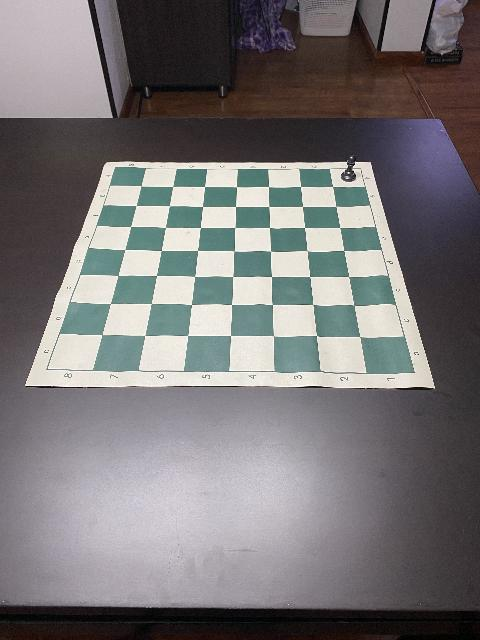black-pawn: (340, 156, 358, 182)
board: (25, 162, 436, 388)
